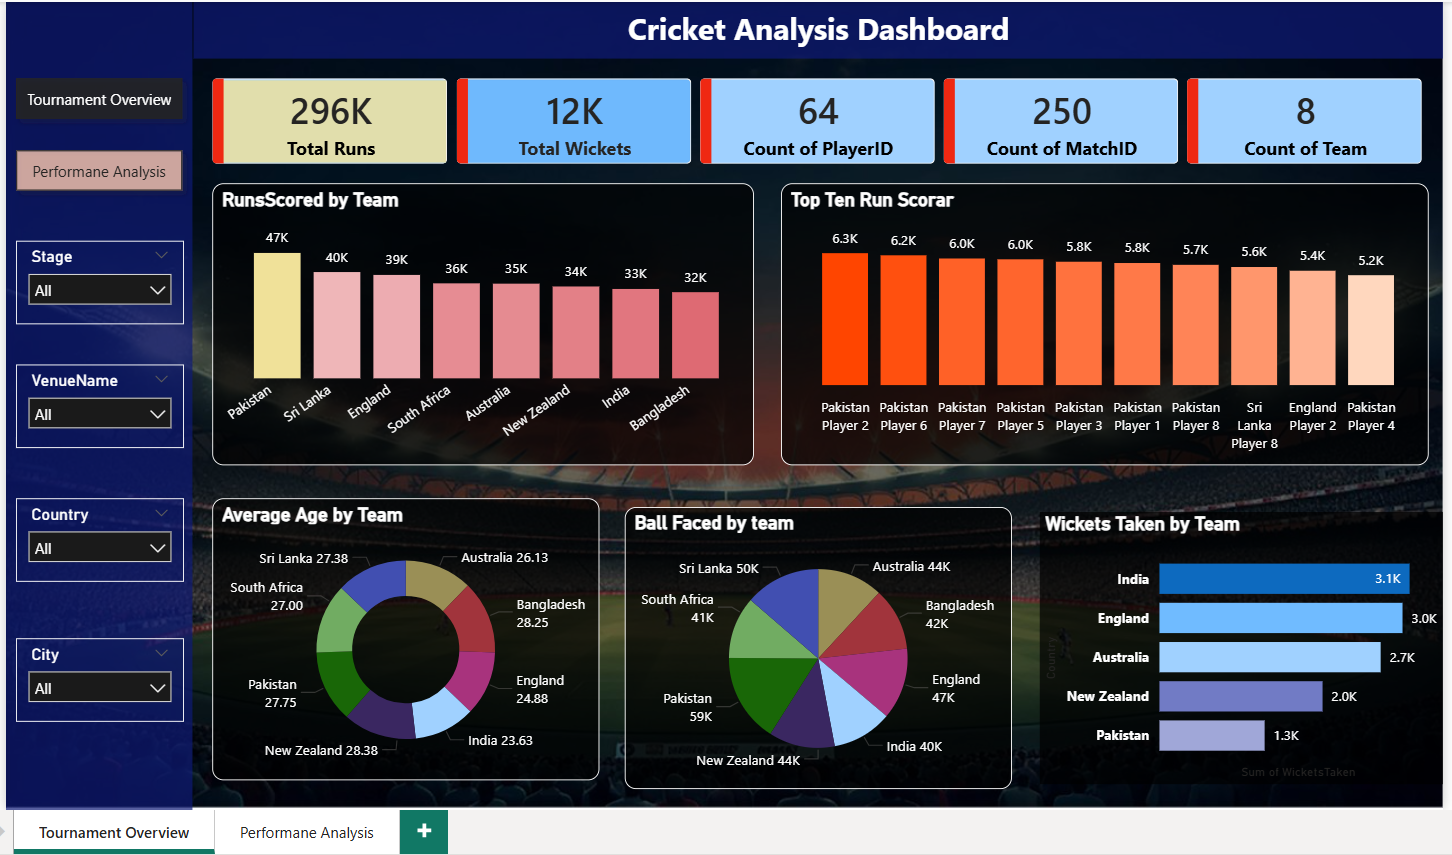

The page's visual inventory and layout, read from the dashboard file:
{"tool":"powerbi","page":{"name":"Tournament Overview","canvas":[1280,720],"ordinal":0},"visuals":[{"type":"shape","box":[0,0,166,720.4],"z":0},{"type":"textbox","box":[166.5,0,1113.5,50.7],"z":1000},{"type":"cardVisual","fields":{"Data":["Sum(FactPlayerMatch.RunsScored)","Sum(FactPlayerMatch.WicketsTaken)","CountNonNull(DimPlayer.PlayerID)","CountNonNull(DimMatch.MatchID)","Count(DimPlayer.Team)"]},"box":[166.5,50.7,1113.5,111],"z":2000},{"type":"clusteredColumnChart","title":" RunsScored by Team","fields":{"Category":["DimPlayer.Team"],"Y":["Sum(FactPlayerMatch.RunsScored)"]},"box":[183.4,161.7,482.6,250.9],"z":3000},{"type":"clusteredColumnChart","title":"Top Ten Run Scorar","fields":{"Category":["DimPlayer.PlayerName"],"Y":["Sum(FactPlayerMatch.RunsScored)"]},"box":[690.1,161.7,576.7,250.9],"z":4000},{"type":"donutChart","title":"Average Age by Team","fields":{"Series":["DimPlayer.Team"],"Y":["Avg(DimPlayer.Age)"]},"box":[183.4,441.6,345,250.9],"z":5000},{"type":"pieChart","title":"Ball Faced by team","fields":{"Series":["DimPlayer.Team"],"Y":["Sum(FactPlayerMatch.BallsFaced)"]},"box":[551.3,450,345,250.9],"z":6000},{"type":"barChart","title":" Wickets Taken by Team","fields":{"Category":["DimVenue.Country"],"Y":["Sum(FactPlayerMatch.WicketsTaken)"]},"box":[920.5,453.6,359.5,242.5],"z":7000},{"type":"pageNavigator","box":[0,59.1,166.5,118.2],"z":8000},{"type":"slicer","fields":{"Values":["DimMatch.Stage"]},"box":[8.4,212.3,149.6,74.8],"z":9000},{"type":"slicer","fields":{"Values":["DimVenue.VenueName"]},"box":[8.4,323.3,149.6,74.8],"z":10000},{"type":"slicer","fields":{"Values":["DimVenue.Country"]},"box":[8.4,441.6,149.6,74.8],"z":11000},{"type":"slicer","fields":{"Values":["DimVenue.City"]},"box":[8.4,567,149.6,74.8],"z":12000}]}

Visuals, with their boxes on the page's 1280x720 design canvas (x1, y1, x2, y2). These are canvas units, not pixel positions in the 1452x855 screenshot, which may show the page scaled, cropped or inside an application window:
shape: left=0, top=0, right=166, bottom=720
textbox: left=166, top=0, right=1280, bottom=51
cardVisual - Sum(FactPlayerMatch.RunsScored) x Sum(FactPlayerMatch.WicketsTaken): left=166, top=51, right=1280, bottom=162
" RunsScored by Team" clusteredColumnChart: left=183, top=162, right=666, bottom=413
"Top Ten Run Scorar" clusteredColumnChart: left=690, top=162, right=1267, bottom=413
"Average Age by Team" donutChart: left=183, top=442, right=528, bottom=692
"Ball Faced by team" pieChart: left=551, top=450, right=896, bottom=701
" Wickets Taken by Team" barChart: left=920, top=454, right=1280, bottom=696
pageNavigator: left=0, top=59, right=166, bottom=177
slicer - DimMatch.Stage: left=8, top=212, right=158, bottom=287
slicer - DimVenue.VenueName: left=8, top=323, right=158, bottom=398
slicer - DimVenue.Country: left=8, top=442, right=158, bottom=516
slicer - DimVenue.City: left=8, top=567, right=158, bottom=642
